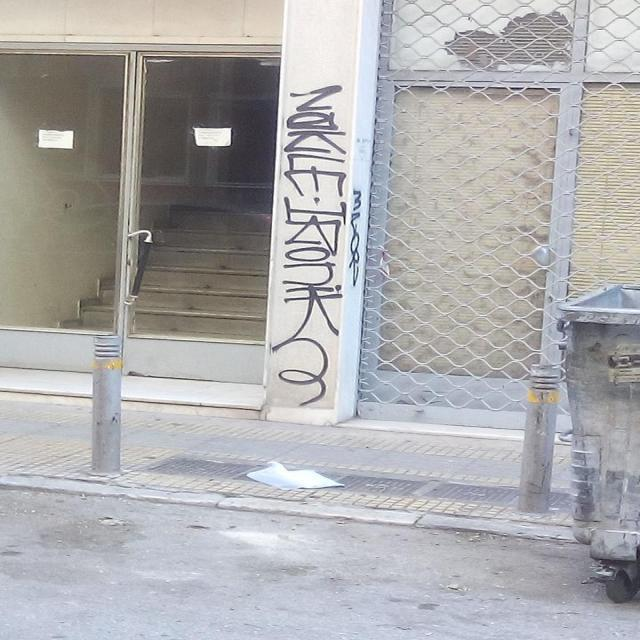nonspitting: (272, 82, 349, 410), (349, 190, 360, 286)
